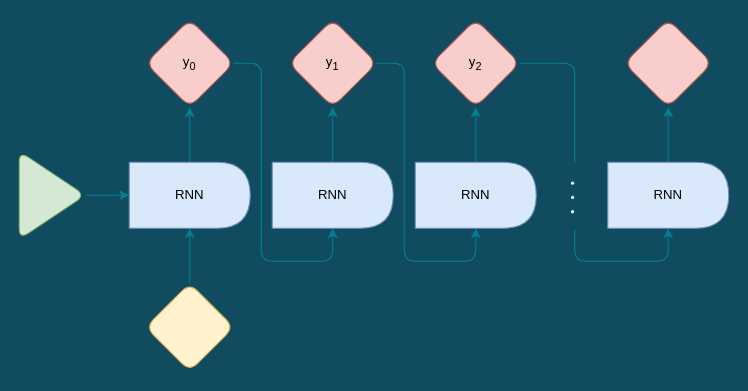
This 748x391 diagram has some shape labels left out. The box of each missing label's shape, as (x1, y1, x2, y2) in pixels:
a 0: (18, 150, 85, 239)
x 0: (145, 282, 234, 371)
y n: (623, 18, 712, 107)
